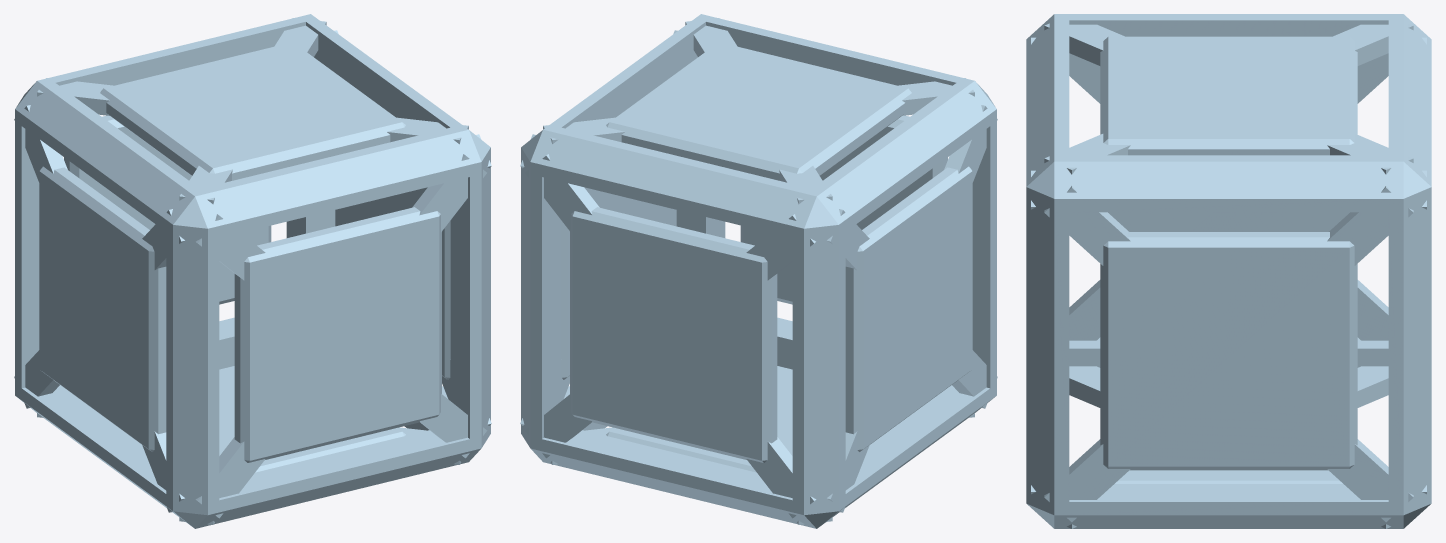
Rendered from R4B_TrussCube.fbx.
The picture shows the model from 3 angles, left to right: view 1: azimuth 30°, elevation 25°; view 2: azimuth 150°, elevation 25°; view 3: azimuth 270°, elevation 25°; orthographic projection. The views are drawn at different scales.
Parts seen in each view (by area): view 1: R4B_TrussCube; view 2: R4B_TrussCube; view 3: R4B_TrussCube.
Part boxes in pixels (box(x1,y1,x2,y2)): R4B_TrussCube: box(14, 14, 491, 528); R4B_TrussCube: box(520, 14, 997, 528); R4B_TrussCube: box(1026, 14, 1431, 528).
Size of the model in its own units: 0.52 by 0.52 by 0.52.
